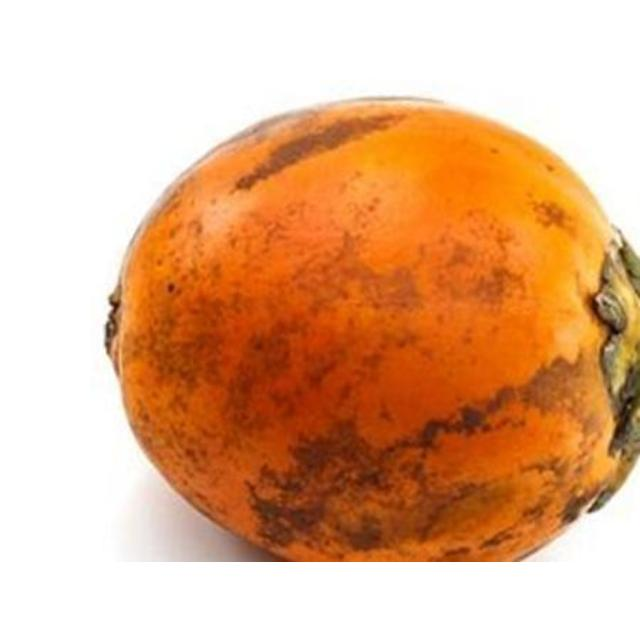good: (104, 96, 639, 560)
